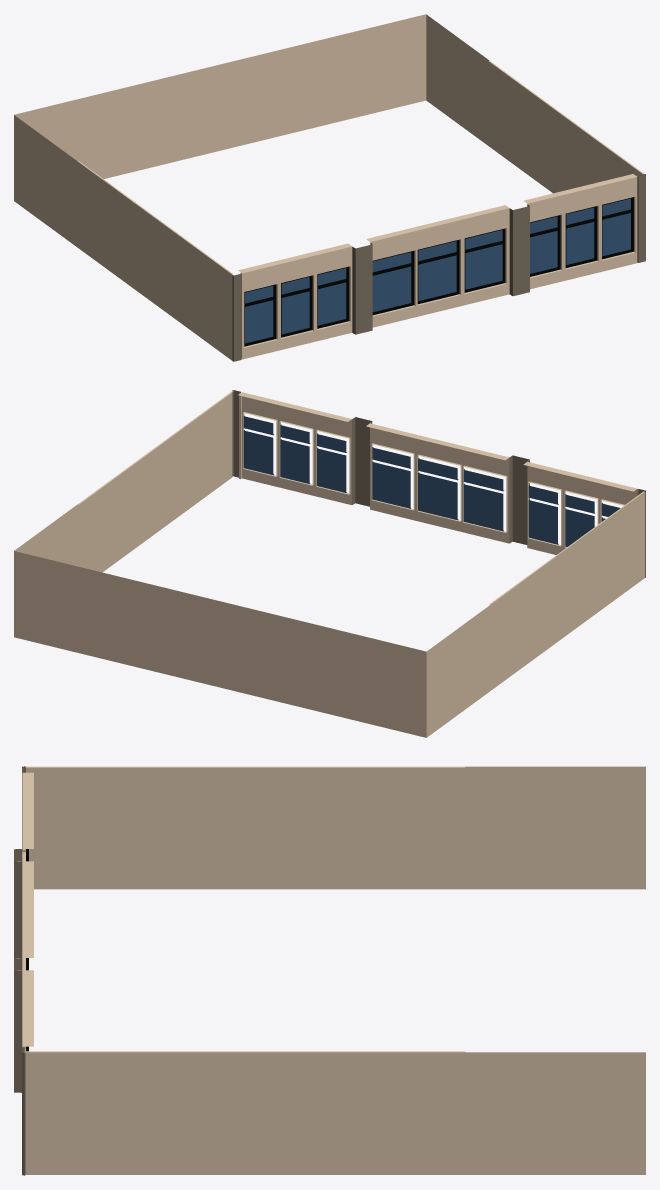
The model's file is Apt7_Floor.fbx.
3 views of the same model, one above another, from view 1: azimuth 30°, elevation 25°; view 2: azimuth 150°, elevation 25°; view 3: azimuth 270°, elevation 25° (orthographic). The views are drawn at different scales.
Visible parts, largest first — view 1: Apt7_Floor_Main, Apt7_Floor_Windows, Apt7_Floor_Pillars, Apt7_Floor_Frame; view 2: Apt7_Floor_Main, Apt7_Floor_Windows, Apt7_Floor_Pillars; view 3: Apt7_Floor_Main, Apt7_Floor_Pillars.
Part boxes in pixels (<box>): Apt7_Floor_Main: <box>14,14,644,360</box>; Apt7_Floor_Windows: <box>245,198,630,343</box>; Apt7_Floor_Pillars: <box>232,174,645,361</box>; Apt7_Floor_Frame: <box>244,197,633,346</box>; Apt7_Floor_Main: <box>14,391,644,737</box>; Apt7_Floor_Windows: <box>243,416,620,546</box>; Apt7_Floor_Pillars: <box>232,390,645,577</box>; Apt7_Floor_Main: <box>15,766,645,1174</box>; Apt7_Floor_Pillars: <box>14,766,25,1175</box>.
Bounding box in the file's own units: 1542 × 308 × 1437.
